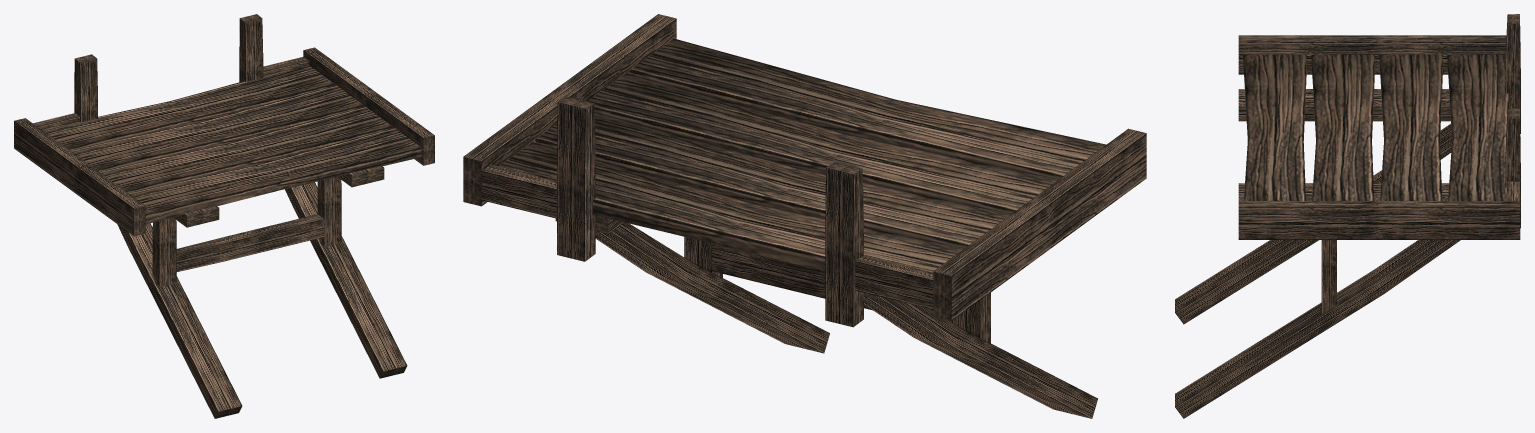
The model's file is CB_LOOKOUT_LDERPLATFORM.fbx.
The picture shows the model from 3 angles, left to right: view 1: azimuth 30°, elevation 25°; view 2: azimuth 150°, elevation 25°; view 3: azimuth 270°, elevation 25°; orthographic projection. The views are drawn at different scales.
Parts seen in each view (by area): view 1: CB_LOOKOUT_LDERPLATFORM; view 2: CB_LOOKOUT_LDERPLATFORM; view 3: CB_LOOKOUT_LDERPLATFORM.
Boxes of the visible parts, left/top/right/bottom form: CB_LOOKOUT_LDERPLATFORM: left=14, top=14, right=434, bottom=418; CB_LOOKOUT_LDERPLATFORM: left=463, top=14, right=1146, bottom=418; CB_LOOKOUT_LDERPLATFORM: left=1175, top=14, right=1520, bottom=418.
Size of the model in its own units: 26035 by 21082 by 22119.
Materials: 1 (1 with a texture image).
